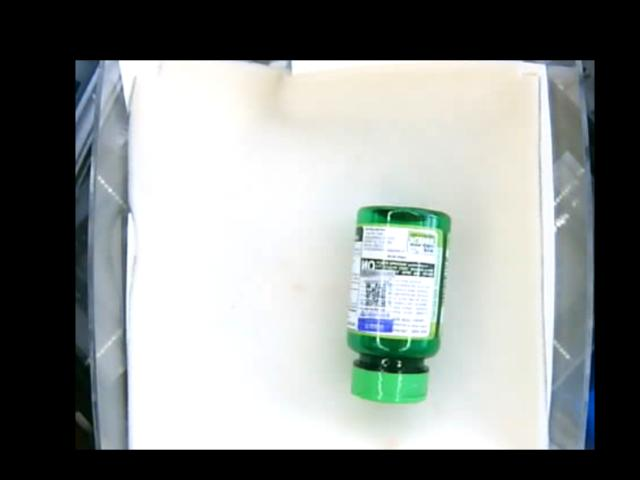Bottle: (348, 203, 453, 402)
